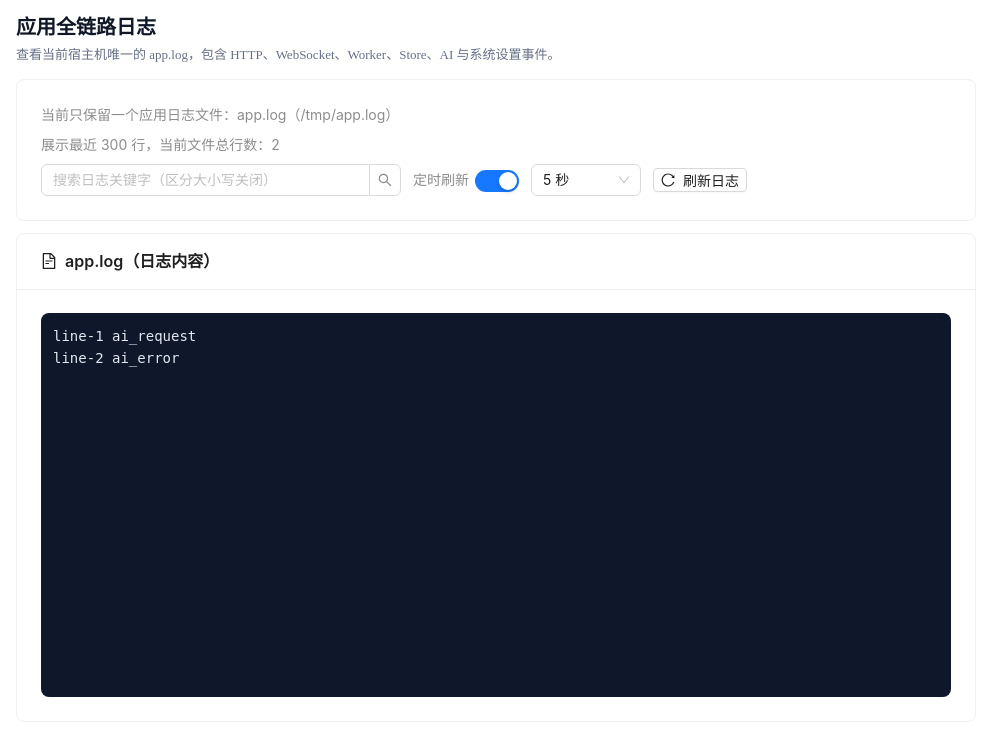
Scenario: AppLogViewer › filters log content by keyword
Check: the text with test id "system-app-log" shows "ai_request", box [53,328,196,366]
Type "ai_error" into the search field with placeholder "搜索日志关键字（区分大小写关闭）". click: (198, 180)
box: [53,169,342,191]
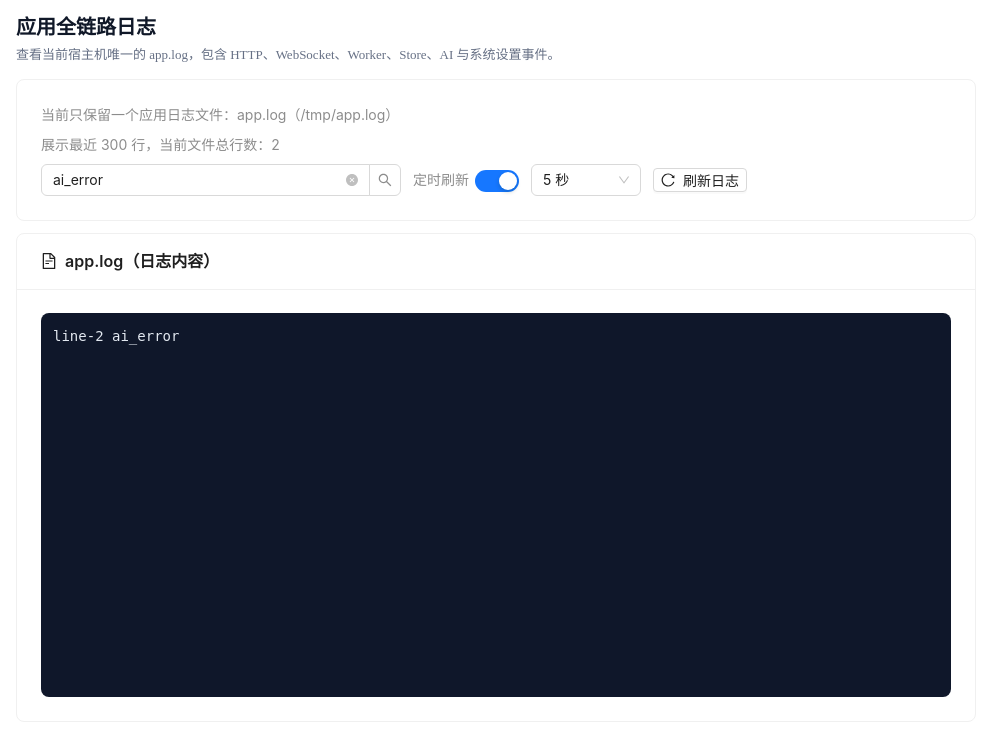
Check: the text with test id "system-app-log" shows "ai_error", box [53,328,179,344]
Check: the text with test id "system-app-log" no longer shows "ai_request", box [41,313,951,697]
